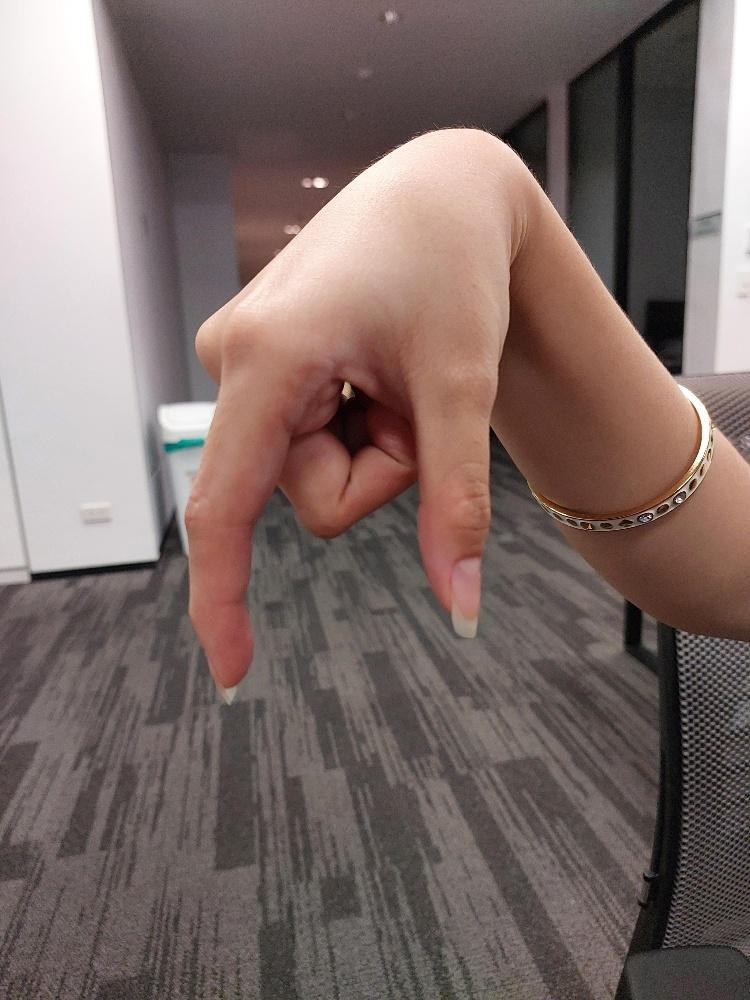q: (180, 124, 518, 710)
